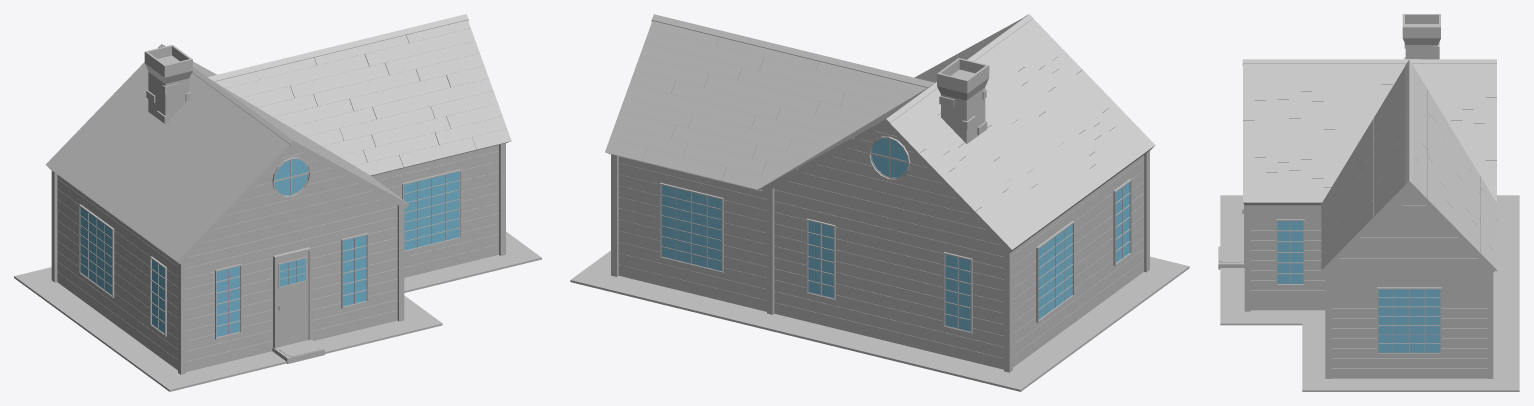
File: House_01.gltf
The picture shows the model from 3 angles, left to right: view 1: azimuth 30°, elevation 25°; view 2: azimuth 150°, elevation 25°; view 3: azimuth 270°, elevation 25°; orthographic projection. The views are drawn at different scales.
Parts seen in each view (by area): view 1: Hous_01; view 2: Hous_01; view 3: Hous_01.
Boxes of the visible parts, x1=… form: Hous_01: x1=14, y1=14, x2=541, y2=391; Hous_01: x1=570, y1=14, x2=1189, y2=391; Hous_01: x1=1218, y1=14, x2=1519, y2=391.
Bounding box in the file's own units: 11.41 × 6.16 × 7.46.
